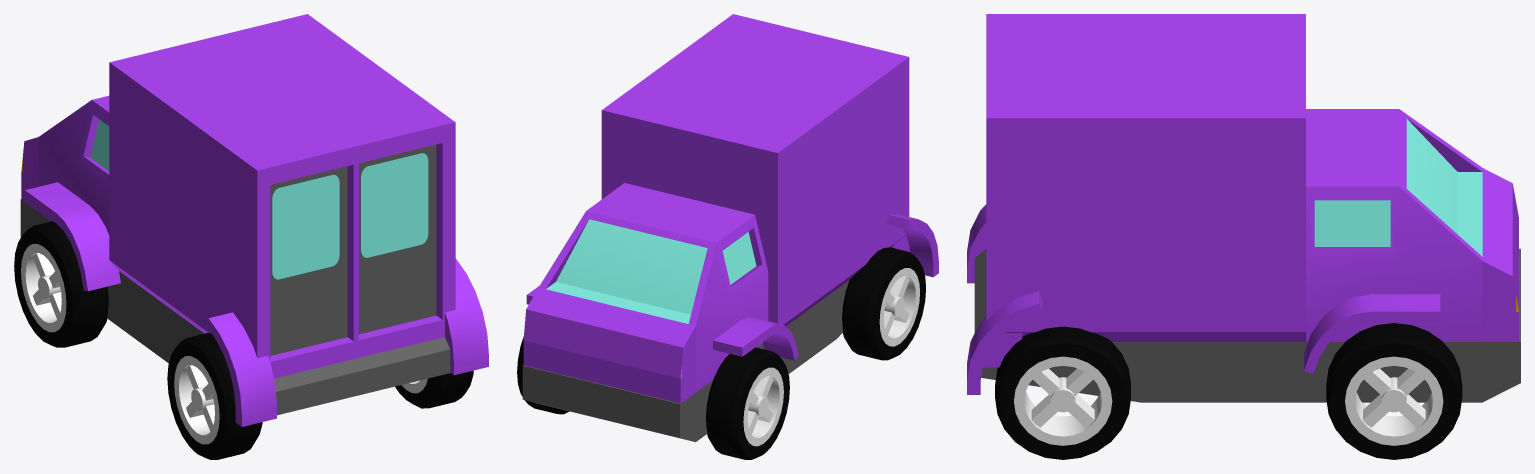
The model's file is Truck.fbx.
3 views of the same model, side by side, from view 1: azimuth 30°, elevation 25°; view 2: azimuth 150°, elevation 25°; view 3: azimuth 270°, elevation 25° (orthographic). The views are drawn at different scales.
Visible parts, largest first — view 1: trunk_truck_560, wheel_smallSports_571, wheel_smallSports_570, windshield_sports_564, detail_fenderHalfLong%_572, detail_fenderHalf%_580, detail_fenderHalf%_579, wheel_smallSports_568, hood_default_563; view 2: trunk_truck_560, windshield_sports_564, hood_default_563, wheel_smallSports_571, wheel_smallSports_570, detail_fenderHalfLong%_572, detail_fenderHalf%_580, wheel_smallSports_569; view 3: trunk_truck_560, windshield_sports_564, wheel_smallSports_569, wheel_smallSports_568, hood_default_563, detail_fenderHalfLong%_576, detail_fenderHalf%_579, detail_fenderHalf%_580.
Boxes of the visible parts, box(x1,y1,x2,y2) form: trunk_truck_560: box(109, 14, 455, 415); wheel_smallSports_571: box(14, 221, 108, 347); wheel_smallSports_570: box(167, 333, 262, 459); windshield_sports_564: box(38, 96, 119, 327); detail_fenderHalfLong%_572: box(25, 182, 120, 291); detail_fenderHalf%_580: box(207, 312, 276, 426); detail_fenderHalf%_579: box(445, 258, 488, 375); wheel_smallSports_568: box(395, 370, 473, 408); hood_default_563: box(20, 137, 38, 237); trunk_truck_560: box(601, 14, 909, 373); windshield_sports_564: box(539, 183, 768, 441); hood_default_563: box(522, 287, 695, 442); wheel_smallSports_571: box(706, 347, 789, 459); wheel_smallSports_570: box(842, 247, 925, 360); detail_fenderHalfLong%_572: box(713, 317, 798, 360); detail_fenderHalf%_580: box(886, 214, 938, 277); wheel_smallSports_569: box(517, 336, 569, 414); trunk_truck_560: box(974, 14, 1305, 402); windshield_sports_564: box(1306, 109, 1482, 402); wheel_smallSports_569: box(1326, 323, 1462, 459); wheel_smallSports_568: box(995, 326, 1130, 459); hood_default_563: box(1482, 168, 1520, 401); detail_fenderHalfLong%_576: box(1304, 294, 1440, 373); detail_fenderHalf%_579: box(967, 291, 1042, 394); detail_fenderHalf%_580: box(967, 204, 986, 283).
Bounding box in the file's own units: 14.01 × 16.56 × 25.09.
